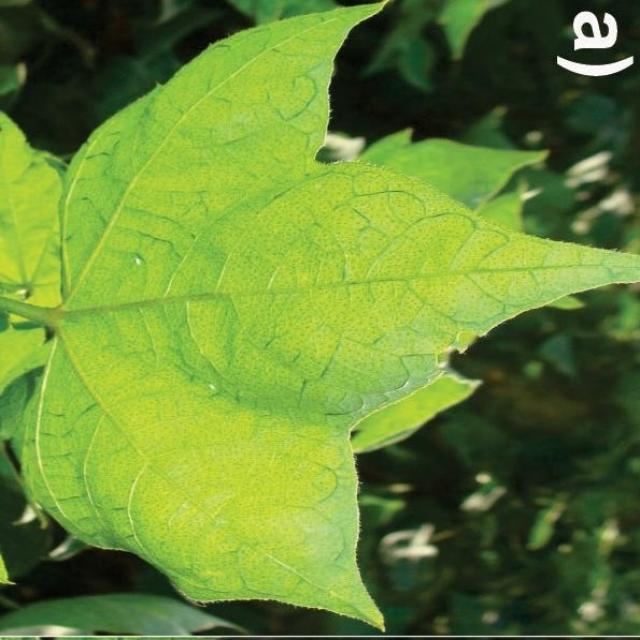Leaf Curl Virus: (74, 113, 367, 592)
